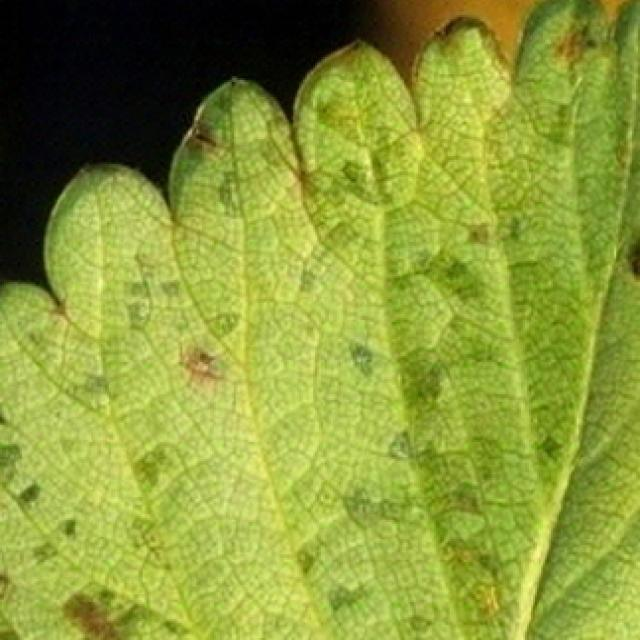Angular Leafspot: (0, 0, 640, 640)
